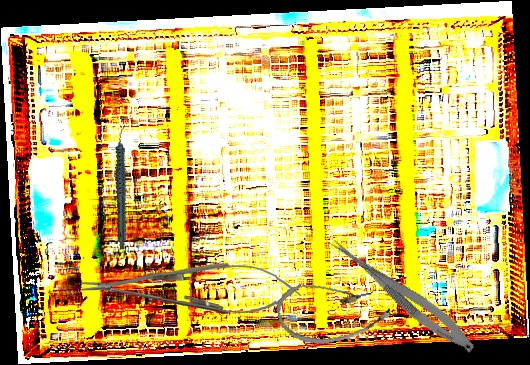Cannula: (273, 269, 394, 352)
Handpiece: (93, 124, 152, 250)
Micro Scissor: (319, 231, 482, 358)
Needle Holder: (79, 259, 302, 316)
